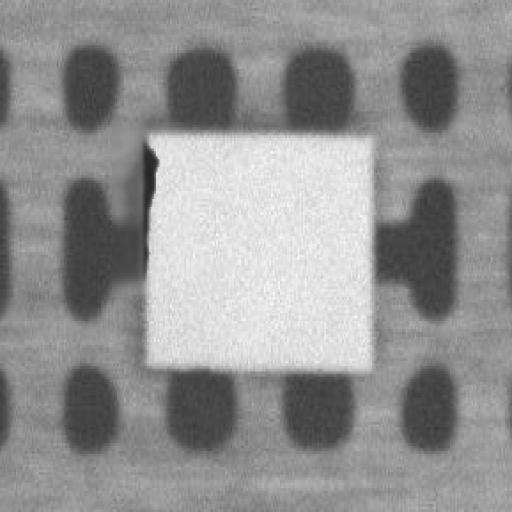DIE_BROKEN: (204, 87, 242, 188)
